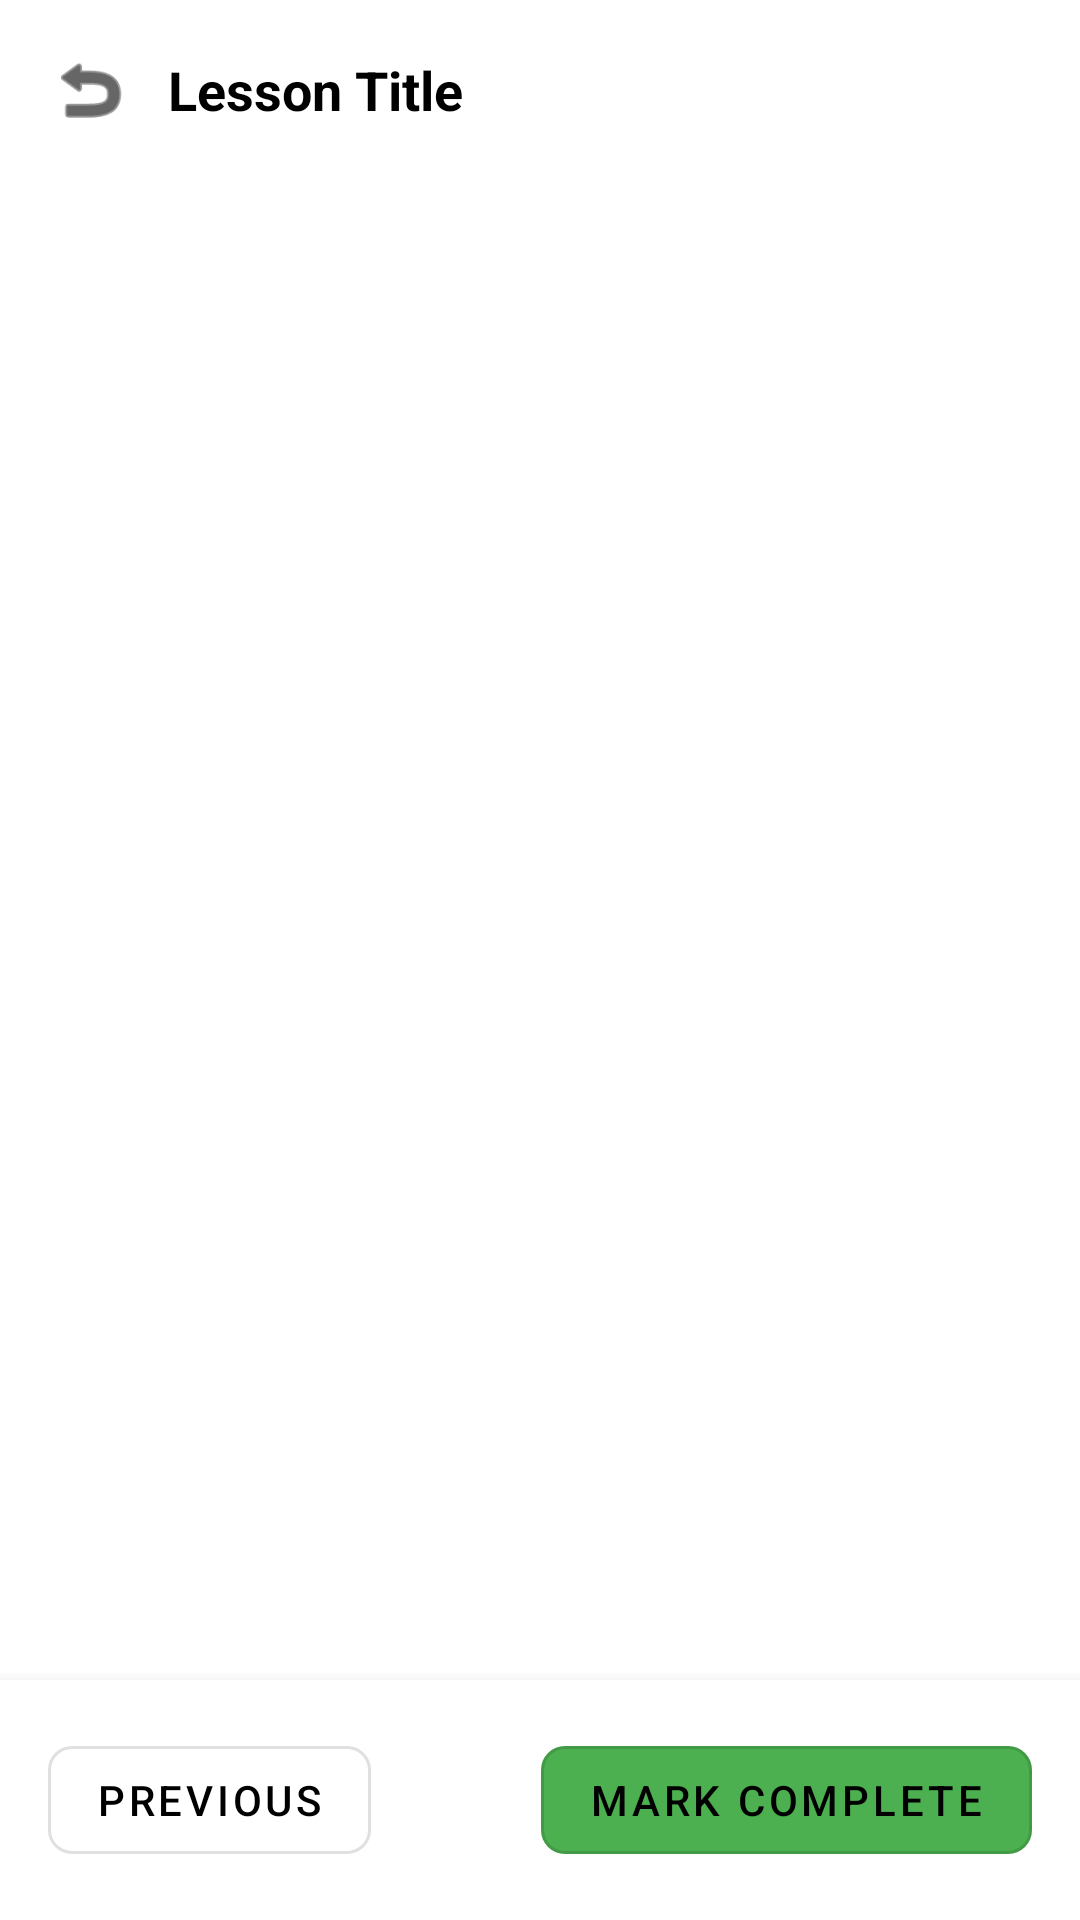

Named icons in this screenshot (1080×1920) and their centers, (x=x, y=y):
revert: (x=91, y=90)
